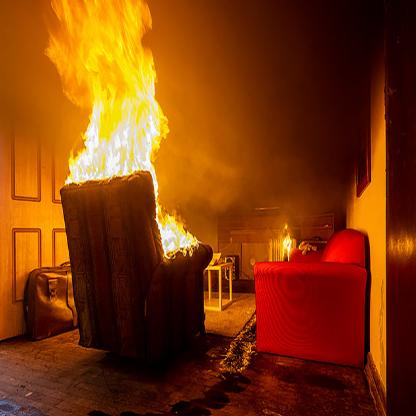fire: (53, 1, 196, 265)
smoke: (154, 0, 390, 220), (0, 1, 80, 166)
